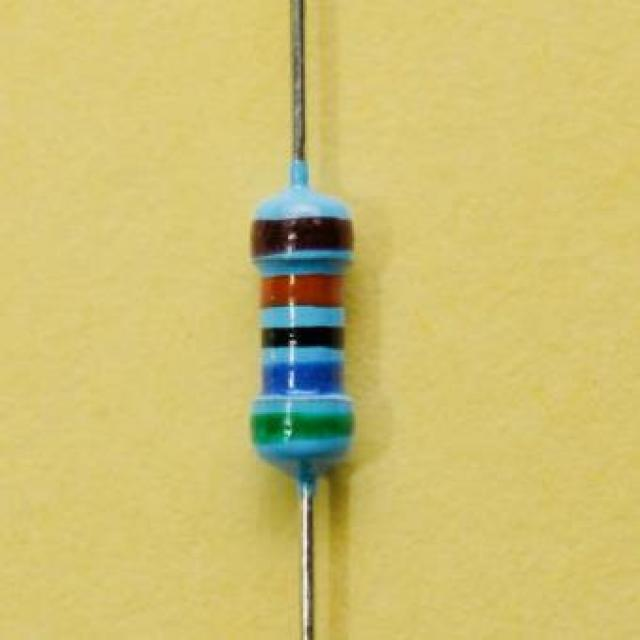Resistor: (244, 173, 360, 476)
